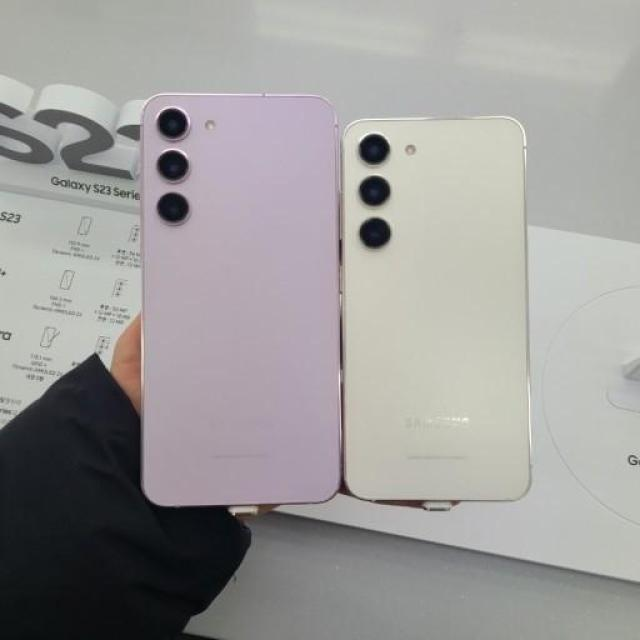phone: (138, 88, 344, 509), (340, 110, 538, 503)
